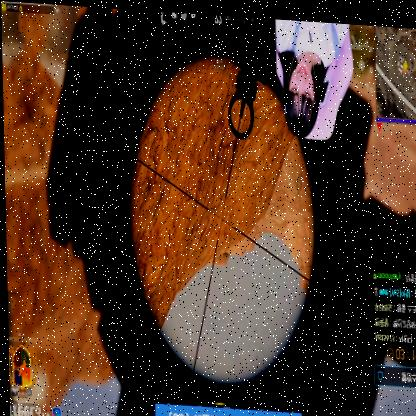streamer: (275, 14, 357, 138)
